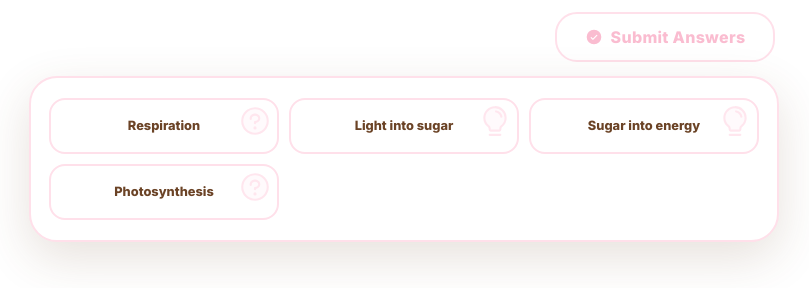
Test: MatchAndTreat submit lockout › closes the button once the round is cleared
The image size is (809, 288).
What coordinates should you click on to do the following:
click the button "Photosynthesis"
I would click on:
 (164, 192)
Its box is x1=49 y1=164 x2=279 y2=220.
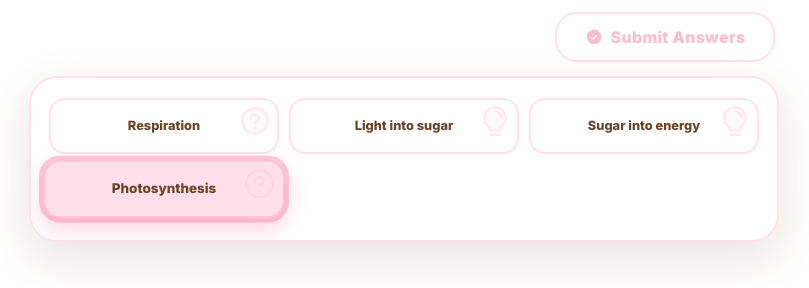
What coordinates should you click on to do the following:
click the button "Light into sugar"
I would click on:
 (404, 126)
Its box is x1=289 y1=98 x2=519 y2=154.
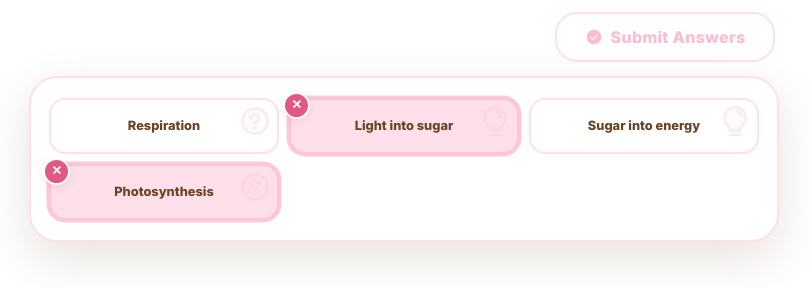
What coordinates should you click on to do the following:
click the button "Respiration"
I would click on:
 (164, 126)
Its box is x1=49 y1=98 x2=279 y2=154.
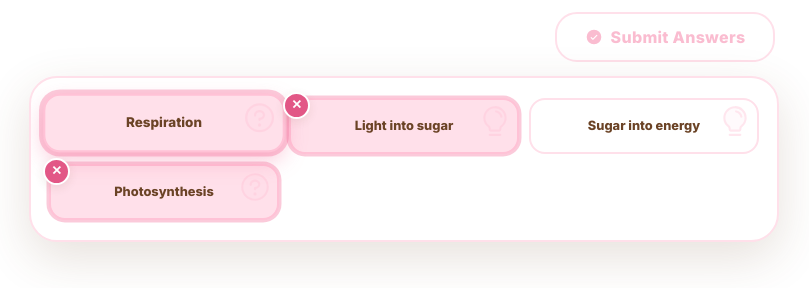
What coordinates should you click on to do the following:
click the button "Sugar into energy"
I would click on:
 (644, 126)
Its box is x1=529 y1=98 x2=759 y2=154.
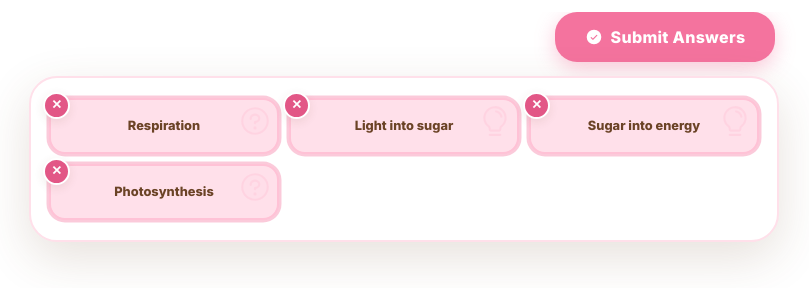
expect the button "Submit Answers" is enabled: met
What coordinates should you click on to do the following:
click the button "Submit Answers"
I would click on:
 (665, 37)
Its box is x1=555 y1=12 x2=775 y2=62.
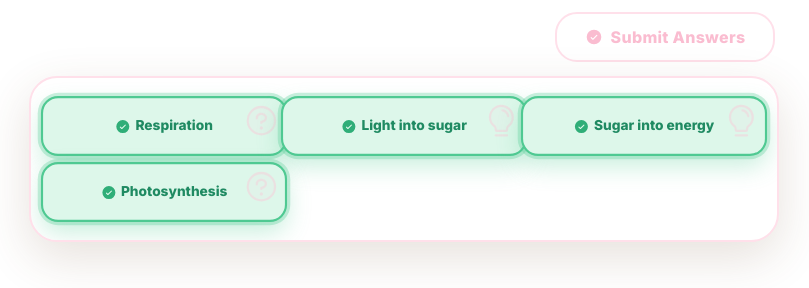
expect the button "Submit Answers" is disabled: met, box x1=555 y1=12 x2=775 y2=62
